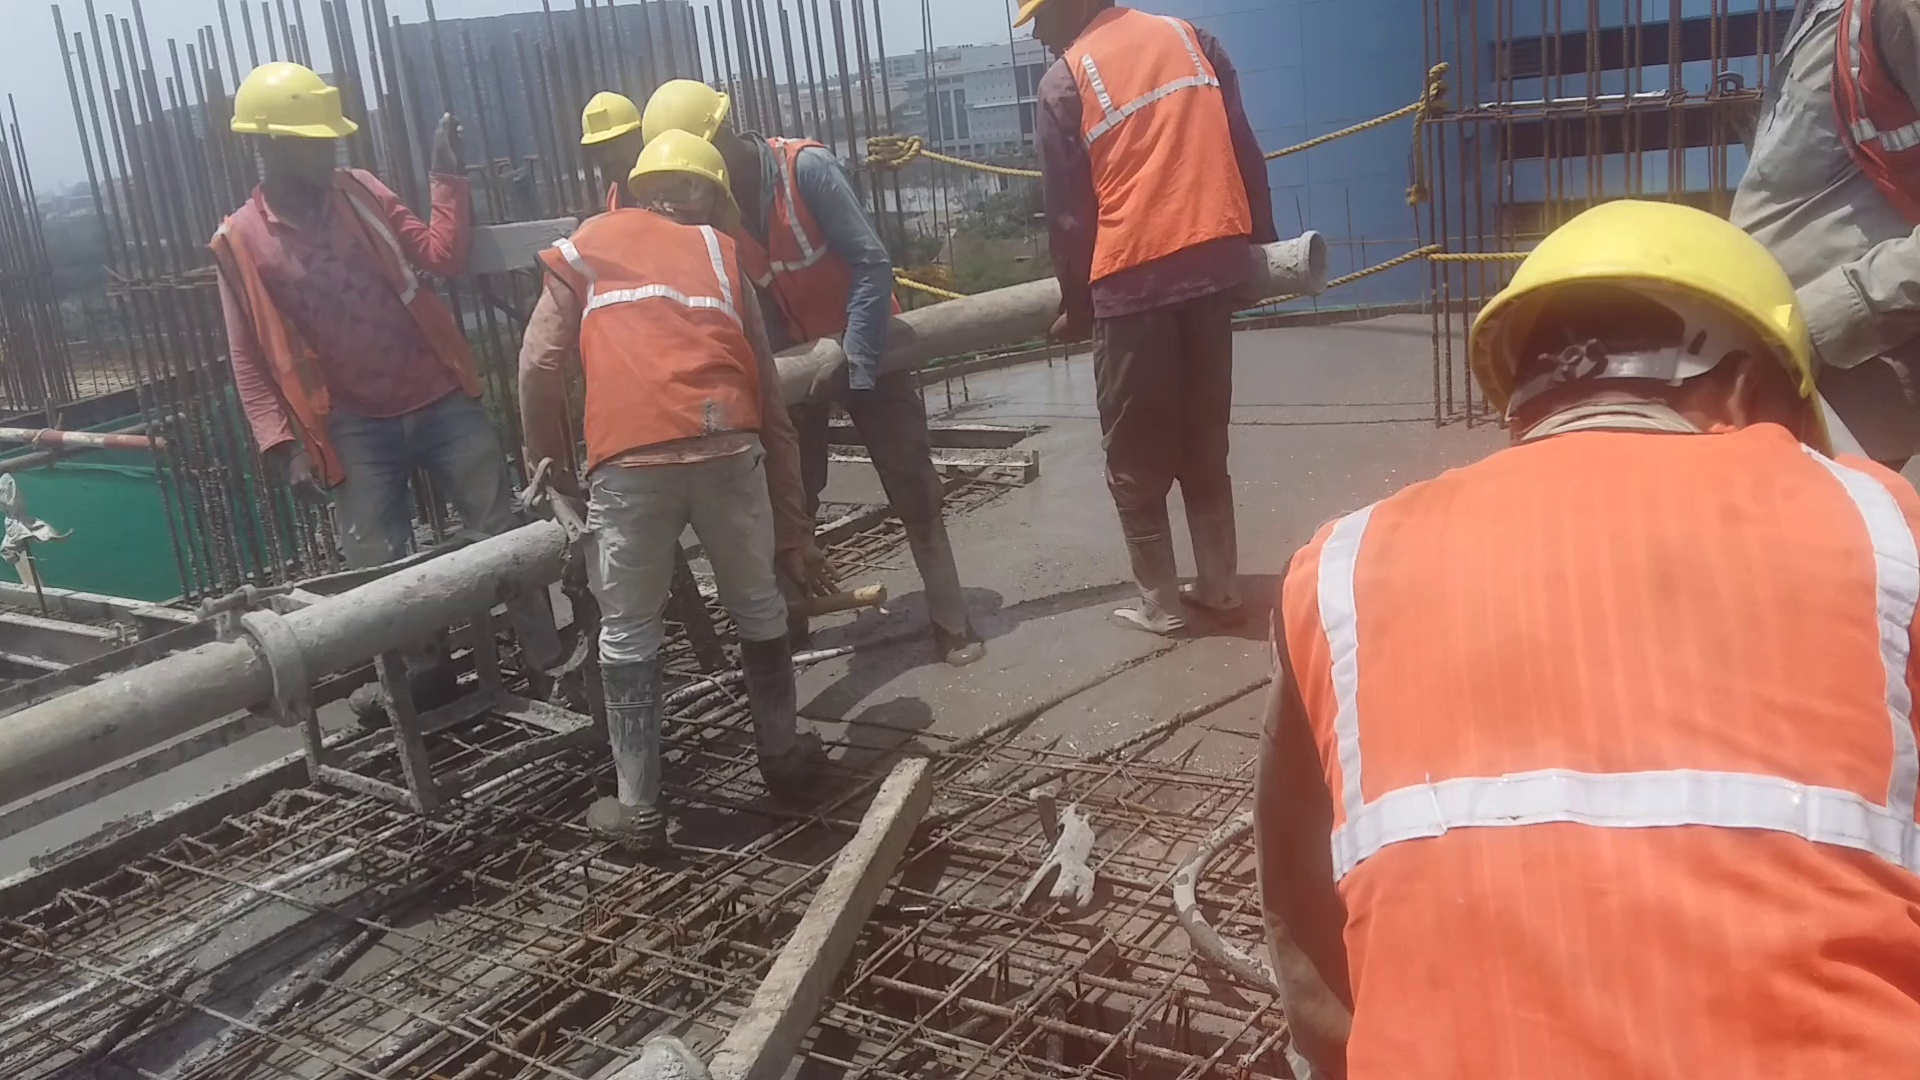SAFE: (1274, 198, 1920, 1069), (214, 63, 446, 435), (1015, 1, 1249, 287), (556, 128, 749, 465), (651, 69, 837, 323)
